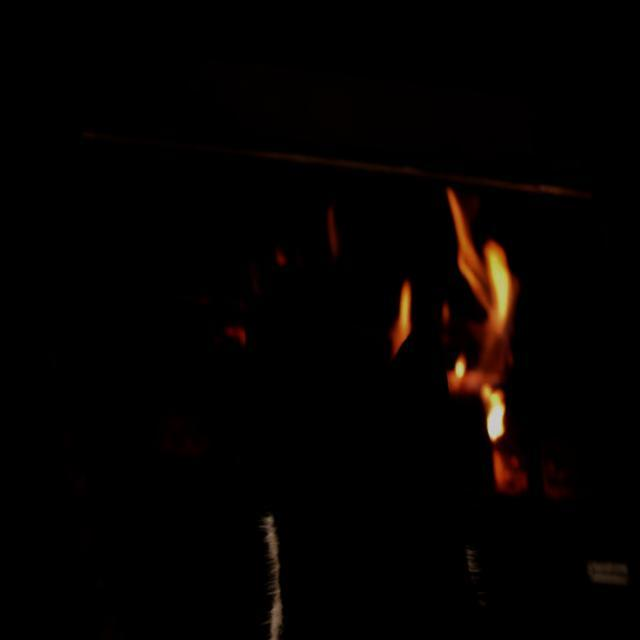Fire: (10, 31, 639, 639), (344, 146, 622, 450)
